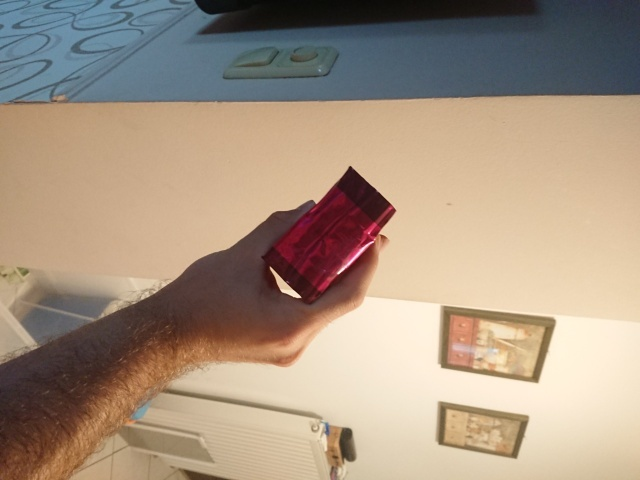Barcaffe Classic Original 225g: (257, 164, 399, 307)
